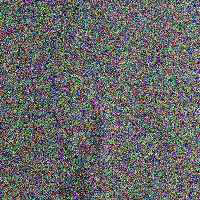inclusion: (60, 93, 106, 199), (88, 101, 108, 165), (61, 74, 81, 115)
